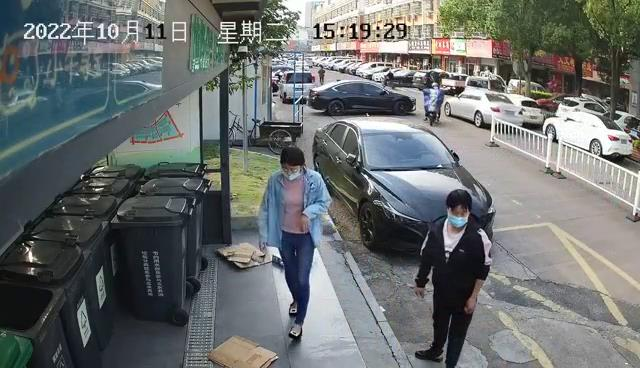person: (411, 187, 494, 368)
worker: (257, 146, 333, 339)
zhizhipin: (206, 334, 279, 368), (215, 241, 272, 269)
